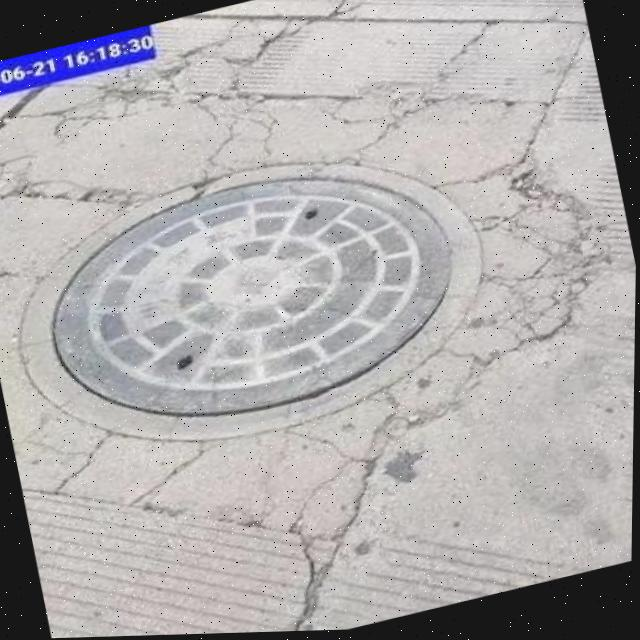manhole: (0, 97, 543, 496)
